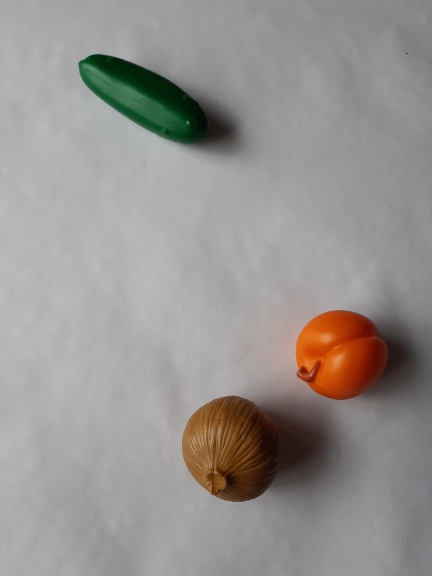apricot: (287, 302, 395, 408)
cucumber: (65, 42, 218, 151)
onion: (170, 390, 290, 506)
